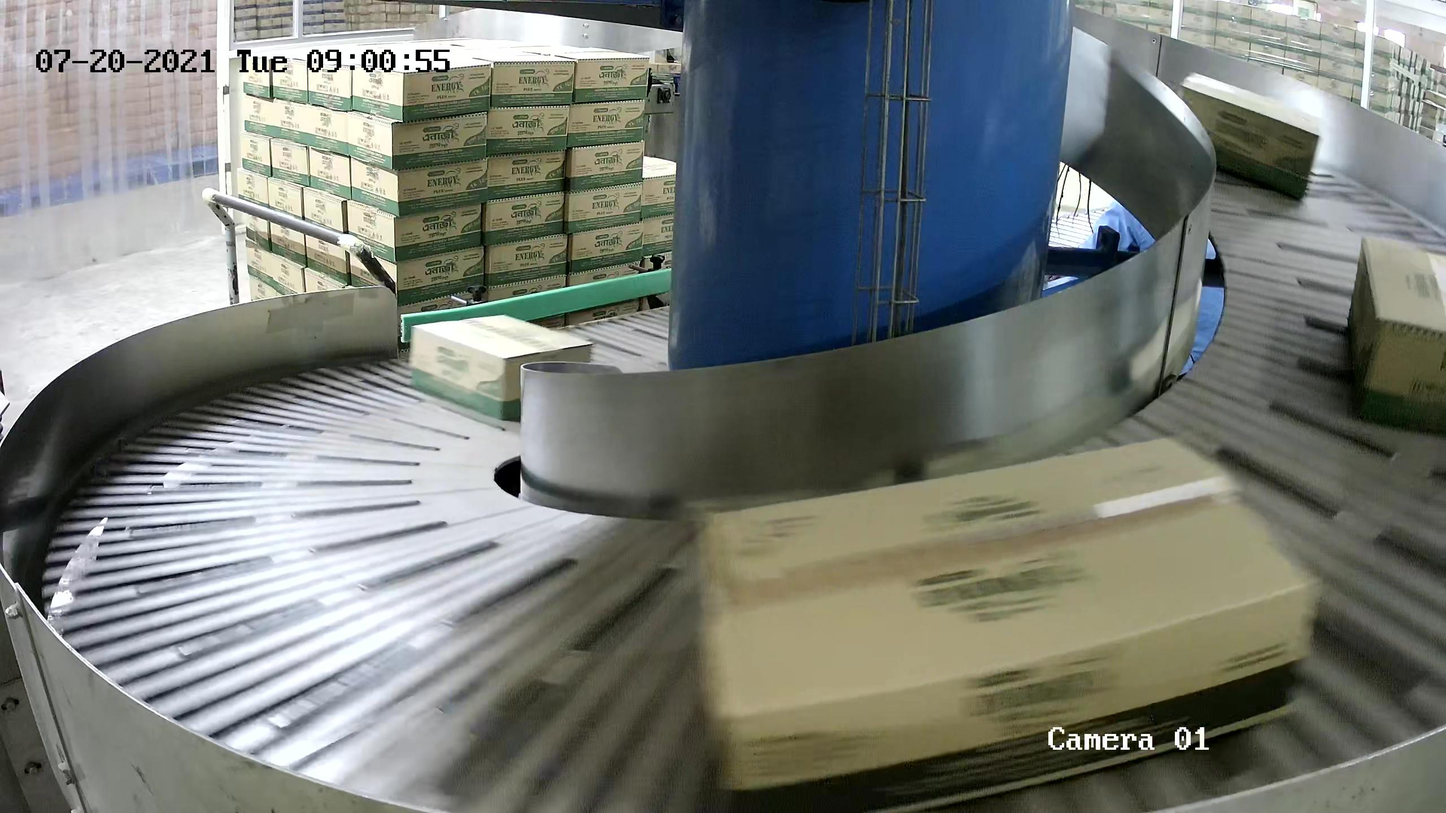Box: (690, 429, 1323, 813), (407, 312, 595, 423), (1347, 234, 1446, 436), (1175, 69, 1324, 201)
